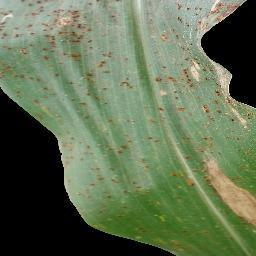Corn_Common_Rust: (1, 0, 256, 256)
